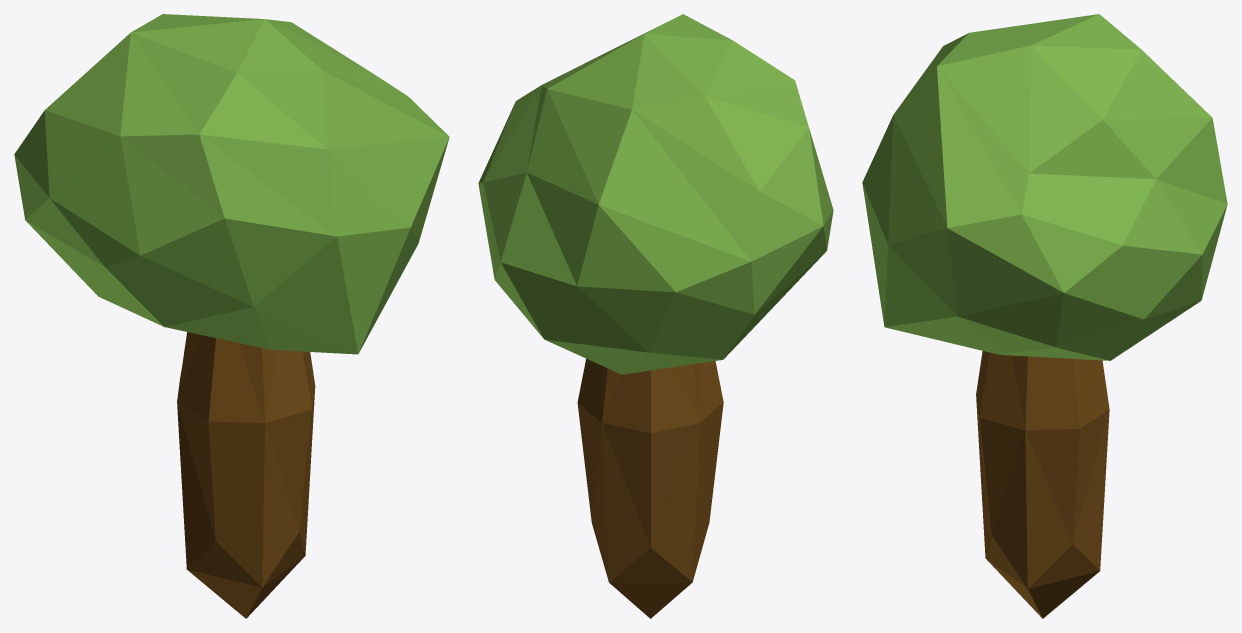
Rendered from tree16.dae.
The picture shows the model from 3 angles, left to right: view 1: azimuth 30°, elevation 25°; view 2: azimuth 150°, elevation 25°; view 3: azimuth 270°, elevation 25°; orthographic projection. The views are drawn at different scales.
Visible parts, largest first — view 1: Icosphere_059; view 2: Icosphere_059; view 3: Icosphere_059.
Boxes of the visible parts, x1,y1,x2,y2 form: Icosphere_059: [14, 14, 449, 618]; Icosphere_059: [478, 14, 833, 618]; Icosphere_059: [862, 14, 1227, 618].
Bounding box in the file's own units: 1.34 × 1.24 × 2.17.
